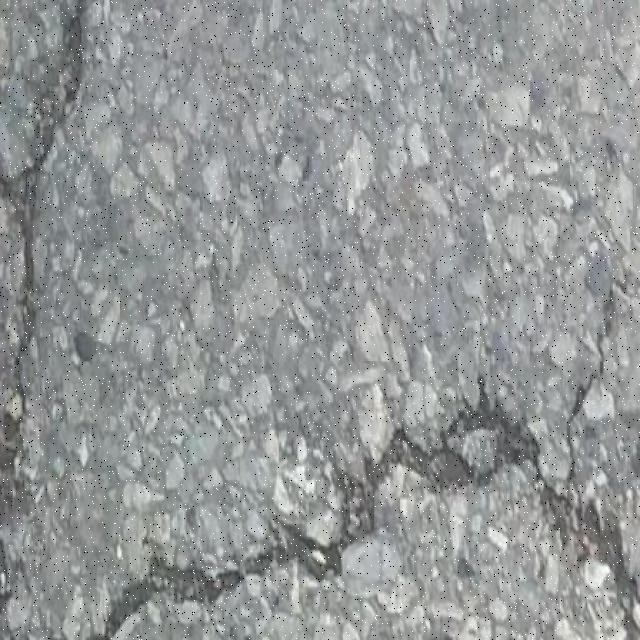Crack: (88, 380, 540, 640), (0, 0, 89, 527), (538, 474, 640, 639), (594, 222, 640, 377), (568, 378, 596, 452), (0, 540, 14, 639)
